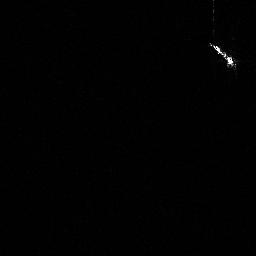ship: (206, 39, 239, 70)
